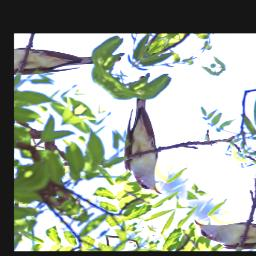Cuckoo: (71, 74, 227, 200)
